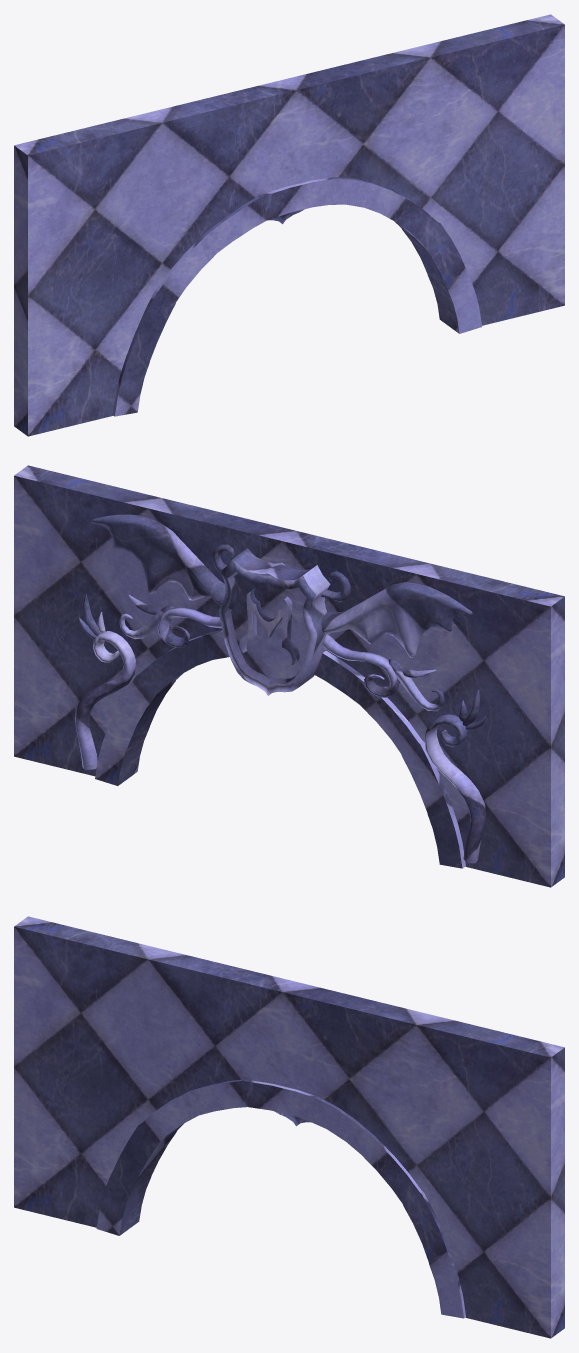
Rendered from hub_ornate_arch.fbx.
3 views of the same model, one above another, from view 1: azimuth 30°, elevation 25°; view 2: azimuth 150°, elevation 25°; view 3: azimuth 330°, elevation 25° (orthographic).
Visible parts, largest first — view 1: arch_wall_, arch_brick; view 2: arch_wall_, shield_, arch_brick; view 3: arch_wall_, arch_brick.
Boxes of the visible parts, <box> form: arch_wall_: <box>14,14,564,436</box>; arch_brick: <box>112,177,482,416</box>; arch_wall_: <box>14,465,564,887</box>; shield_: <box>75,514,486,863</box>; arch_brick: <box>95,630,465,868</box>; arch_wall_: <box>14,916,564,1338</box>; arch_brick: <box>96,1079,465,1318</box>.
Size of the model in its own units: 22.5 by 11.28 by 2.29.
